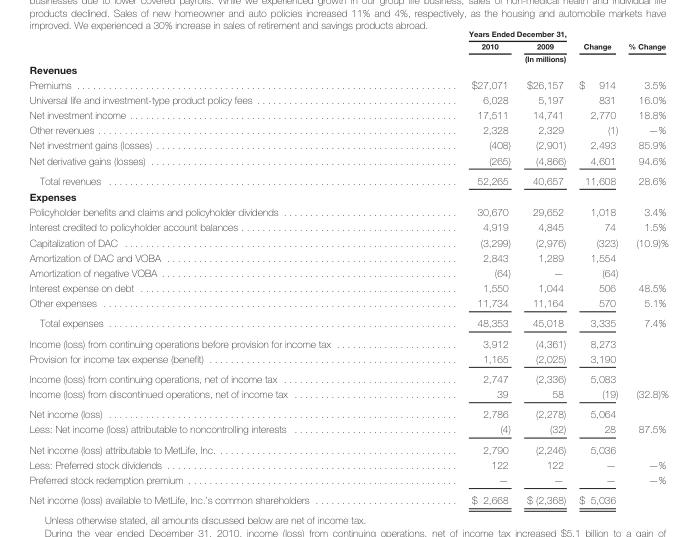table: (28, 28, 667, 505)
table column: (28, 28, 398, 505), (398, 28, 518, 505), (518, 28, 572, 505), (572, 28, 622, 505), (622, 28, 667, 505)
table column header: (28, 28, 667, 63)
table projected row header: (28, 188, 667, 204), (28, 63, 667, 76)
table row: (28, 312, 667, 333), (28, 152, 667, 170), (28, 170, 667, 188), (28, 350, 667, 368), (28, 368, 667, 386), (28, 403, 667, 421), (28, 421, 667, 439), (28, 471, 667, 489), (28, 295, 667, 312), (28, 333, 667, 350), (28, 386, 667, 403), (28, 439, 667, 456), (28, 91, 667, 107), (28, 188, 667, 204), (28, 264, 667, 280), (28, 489, 667, 505), (28, 76, 667, 91), (28, 107, 667, 122), (28, 122, 667, 137), (28, 137, 667, 152), (28, 204, 667, 219), (28, 219, 667, 234), (28, 234, 667, 249), (28, 249, 667, 264), (28, 280, 667, 295), (28, 456, 667, 471), (28, 39, 667, 52), (28, 63, 667, 76), (28, 28, 667, 39), (28, 52, 667, 63)
table spanning cell: (398, 52, 622, 63), (398, 28, 572, 39), (622, 28, 667, 63), (572, 28, 622, 52)
